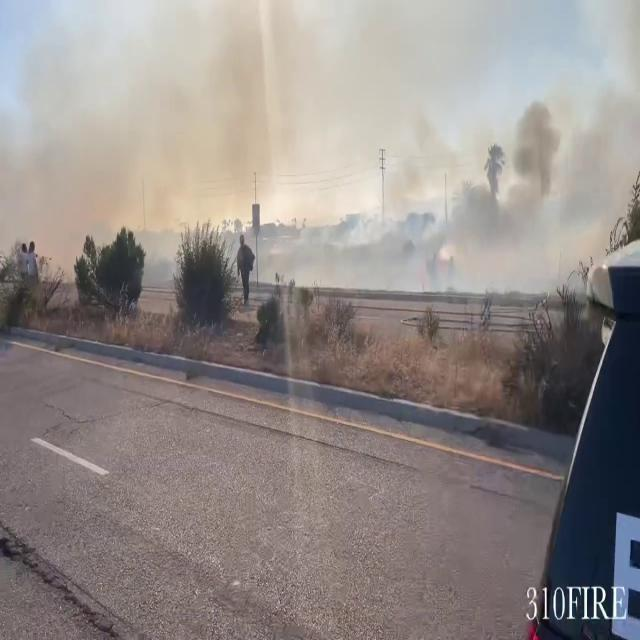Smoke: (31, 8, 640, 271)
